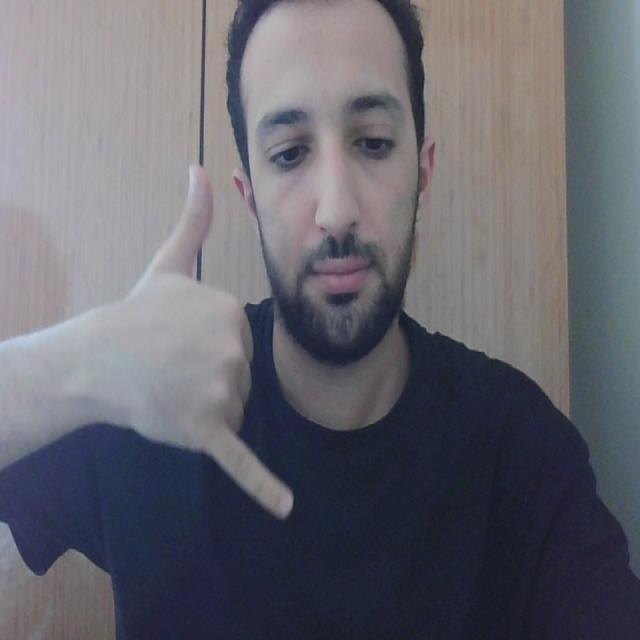Telefon: (143, 148, 321, 520)
